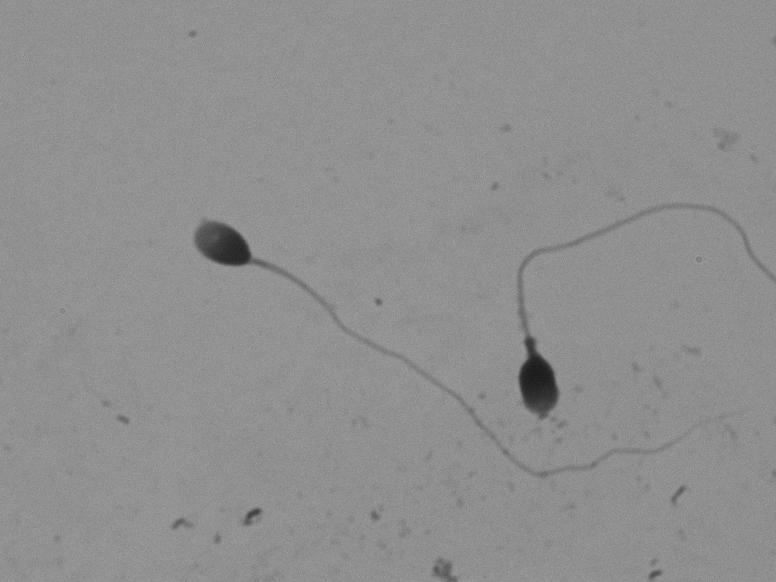Abnormal: (497, 182, 758, 419)
Normal: (113, 194, 480, 544)
